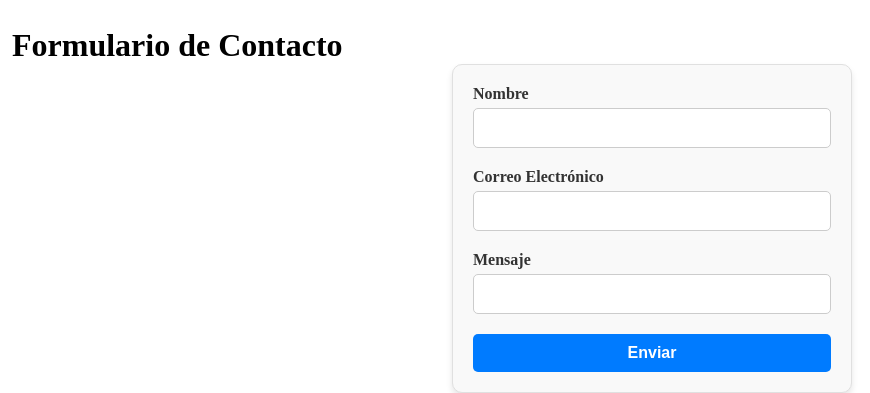
Test: Test <ContactPage /> › Debe mostrar un mensaje de error si los campos no son válidos
Step 1. Click the button "Enviar" → (652, 353), box [473,334,831,372]
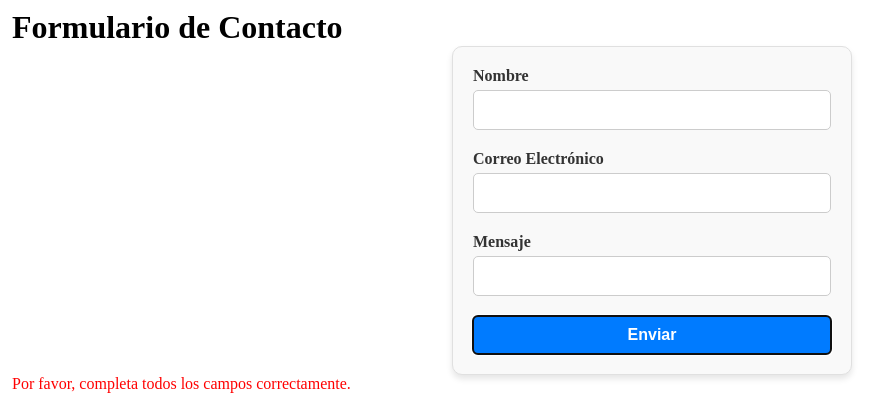
expect the text "Por favor, completa todos los campos correctamente." is shown: met, box [12,375,351,392]
